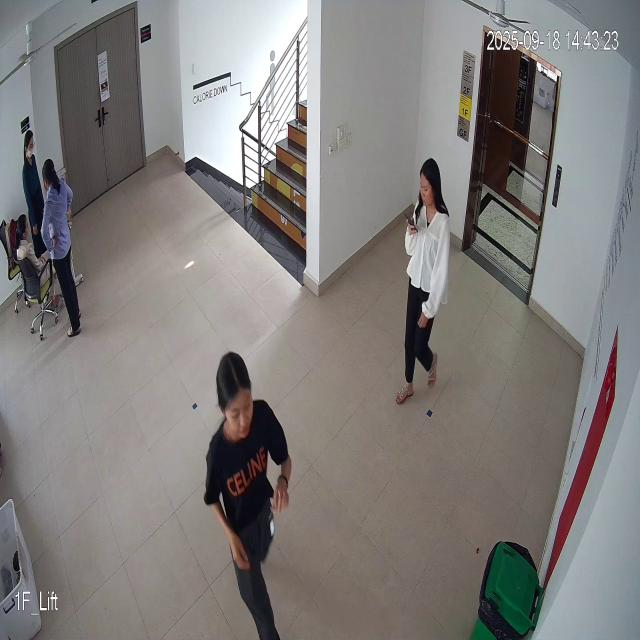face: (418, 154, 441, 219)
